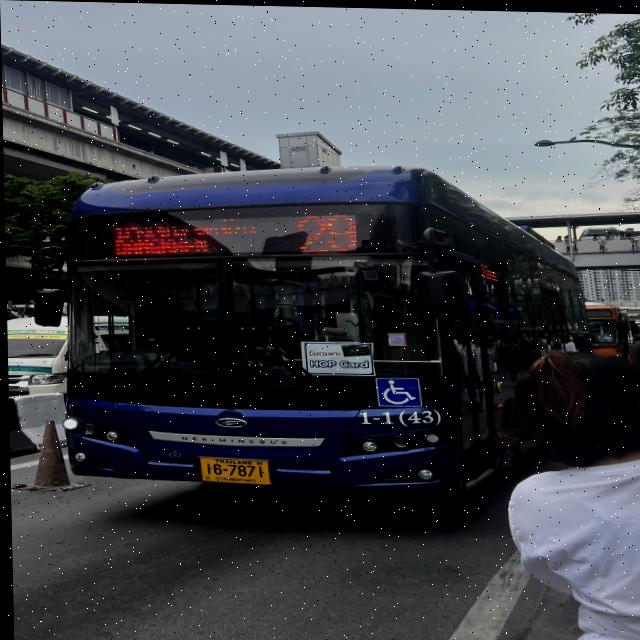BMTA-bus: (582, 298, 640, 355)
Bus-Line-Number: (288, 207, 364, 254)
Destination-Sign-Normal: (103, 215, 262, 261)
TSB-Bus: (52, 160, 591, 502)
